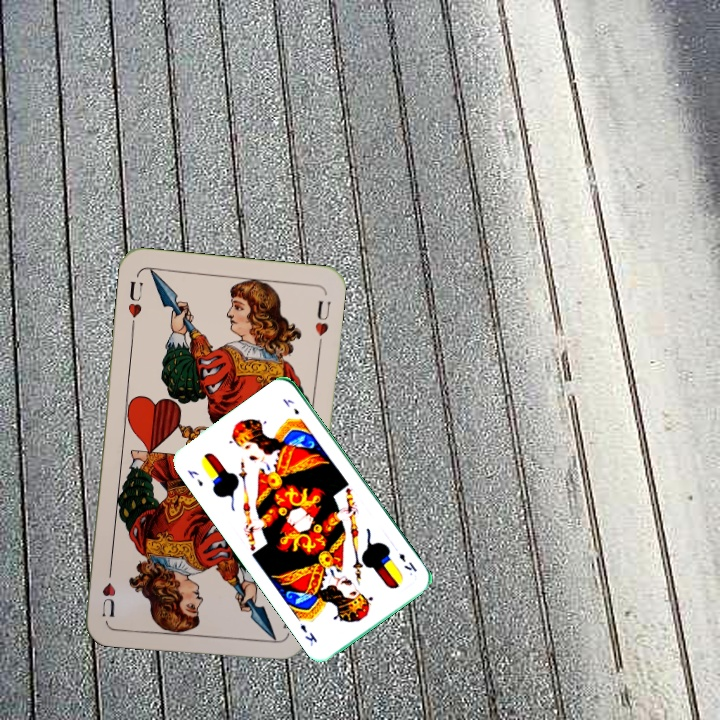EK: (395, 549, 420, 574), (184, 466, 206, 489)
HU: (124, 277, 145, 331)
